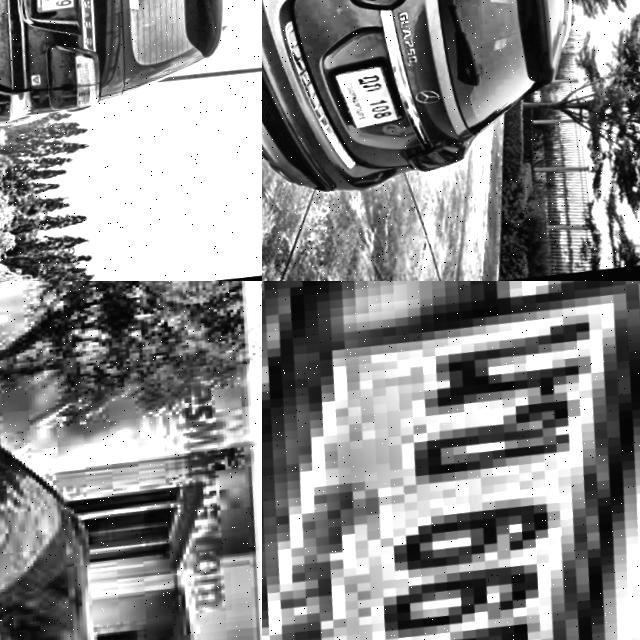license-plate: (262, 281, 640, 640), (334, 53, 421, 132)
